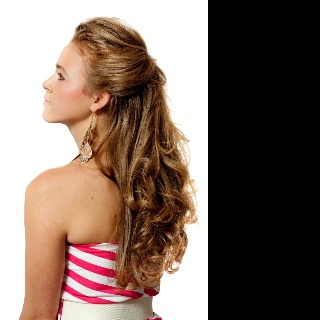without_mask: (42, 15, 173, 123)
